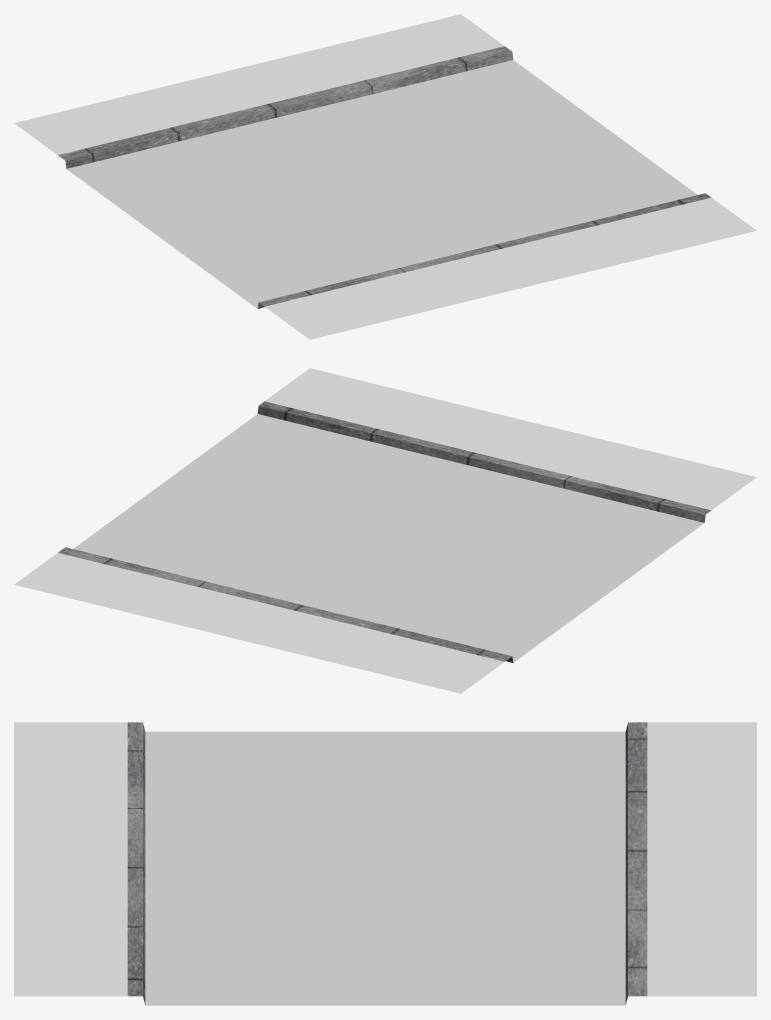
The picture shows the model from 3 angles, top to bottom: view 1: azimuth 30°, elevation 25°; view 2: azimuth 150°, elevation 25°; view 3: azimuth 270°, elevation 25°; orthographic projection. The views are drawn at different scales.
Parts seen in each view (by area): view 1: Plane, Plane.001, Plane.002; view 2: Plane, Plane.001, Plane.002; view 3: Plane, Plane.001, Plane.002.
Part boxes in pixels (left/top/right/bottom): Plane: left=66, top=60, right=697, bottom=308; Plane.001: left=14, top=14, right=756, bottom=339; Plane.002: left=58, top=46, right=711, bottom=308; Plane: left=73, top=414, right=704, bottom=662; Plane.001: left=14, top=368, right=756, bottom=693; Plane.002: left=58, top=401, right=711, bottom=662; Plane: left=145, top=731, right=625, bottom=1005; Plane.001: left=14, top=722, right=756, bottom=996; Plane.002: left=127, top=722, right=647, bottom=1004.
Size of the model in its own units: 617 by 9.91 by 707.
3 materials, 1 textured.
